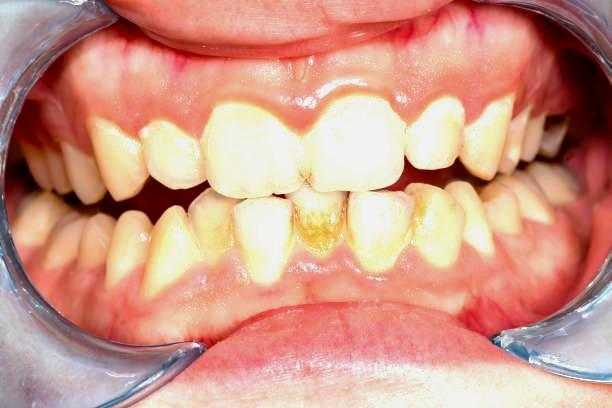Calculus: (186, 189, 256, 257), (291, 187, 349, 248)
